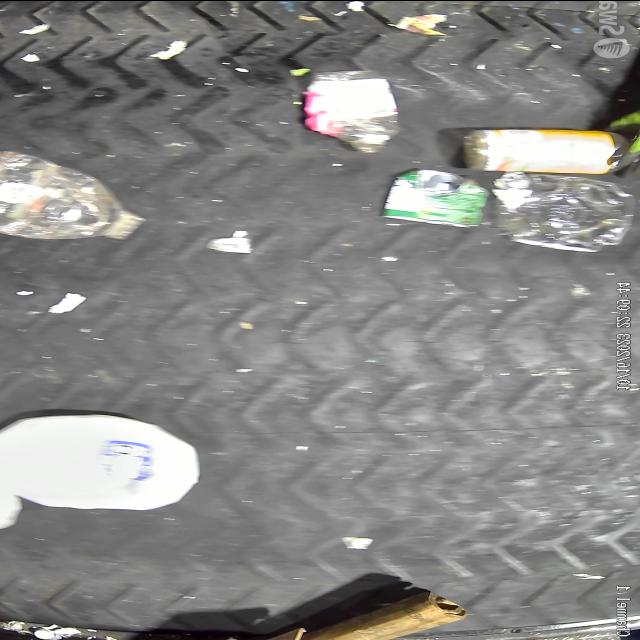can: (384, 166, 487, 227)
milk_jug: (0, 412, 200, 510), (0, 448, 24, 534)
plastic_bottle: (0, 146, 144, 238), (300, 67, 400, 153)
